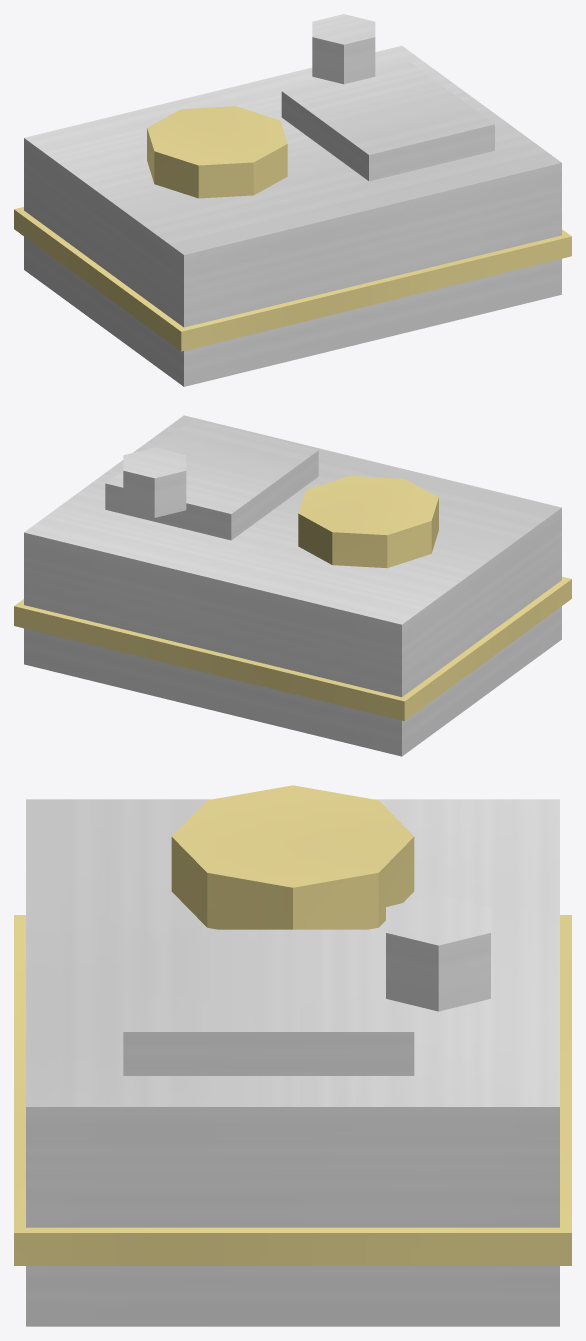
The model's file is item_component_spacer.obj.
3 views of the same model, one above another, from view 1: azimuth 30°, elevation 25°; view 2: azimuth 150°, elevation 25°; view 3: azimuth 270°, elevation 25° (orthographic). The views are drawn at different scales.
Parts seen in each view (by area): view 1: item_component_spacer; view 2: item_component_spacer; view 3: item_component_spacer.
Part boxes in pixels (x1=…): item_component_spacer: x1=14, y1=14, x2=571, y2=386; item_component_spacer: x1=14, y1=415, x2=571, y2=756; item_component_spacer: x1=14, y1=785, x2=571, y2=1326.
Size of the model in its own units: 0.62 by 0.3 by 0.46.
